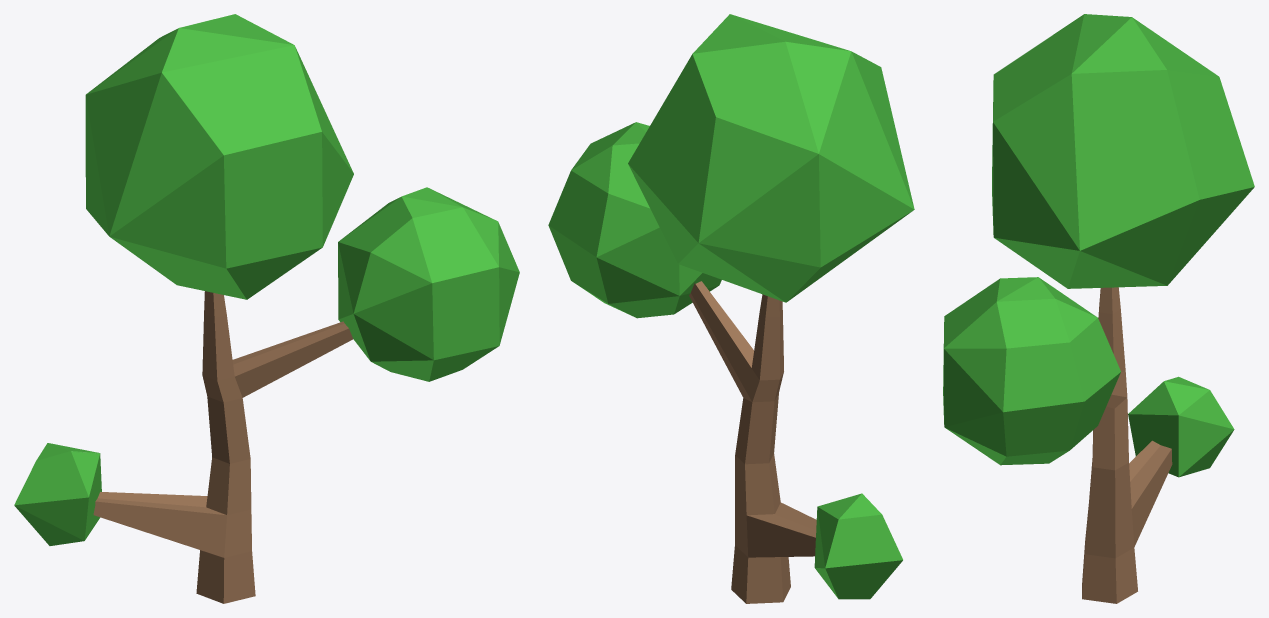
Rendered from branchesTree1.fbx.
The picture shows the model from 3 angles, left to right: view 1: azimuth 30°, elevation 25°; view 2: azimuth 150°, elevation 25°; view 3: azimuth 270°, elevation 25°; orthographic projection. The views are drawn at different scales.
Parts seen in each view (by area): view 1: Sphere, Sphere.001, Cylinder.001, Sphere.002; view 2: Sphere, Sphere.001, Cylinder.001, Sphere.002; view 3: Sphere, Sphere.001, Cylinder.001, Sphere.002.
Boxes of the visible parts, x1,y1,x2,y2 form: Sphere: [85, 14, 353, 299]; Sphere.001: [338, 187, 519, 381]; Cylinder.001: [93, 291, 352, 603]; Sphere.002: [14, 443, 101, 545]; Sphere: [628, 14, 914, 302]; Sphere.001: [548, 122, 721, 318]; Cylinder.001: [689, 281, 816, 603]; Sphere.002: [814, 493, 902, 599]; Sphere: [992, 14, 1254, 288]; Sphere.001: [943, 277, 1120, 465]; Cylinder.001: [1082, 287, 1172, 603]; Sphere.002: [1128, 376, 1234, 477].
Size of the model in its own units: 3934 by 5073 by 2573.
Materials: 4 (4 with a texture image).
